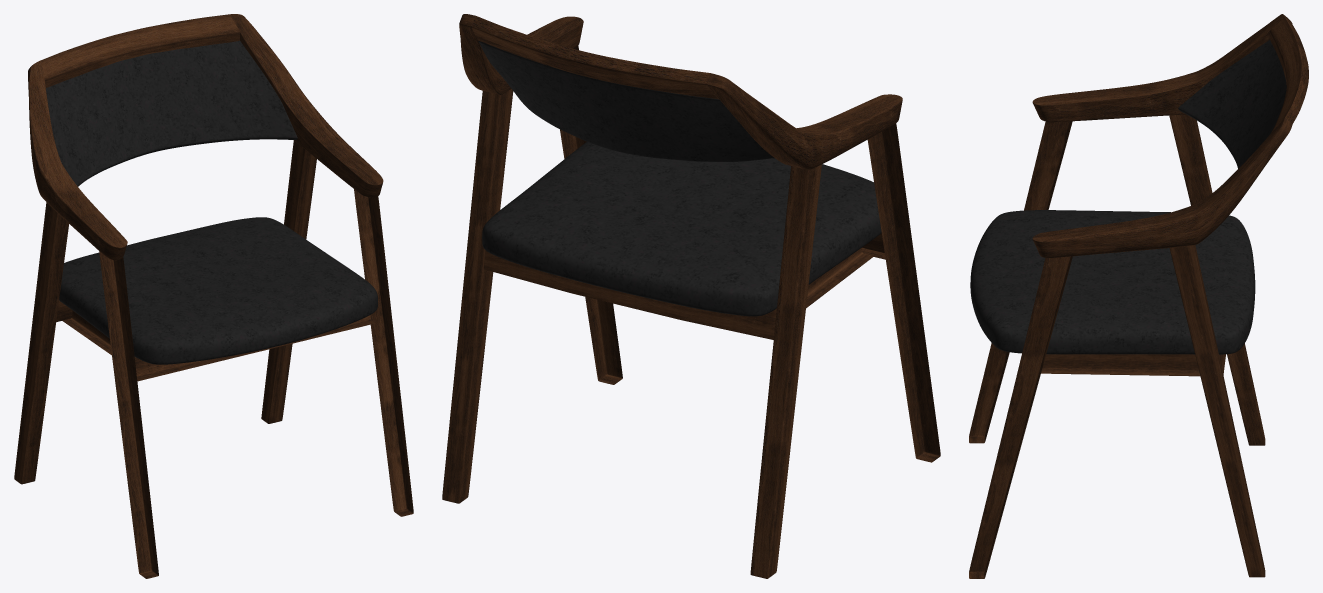
File: Quattro-Chair-Larforma.glb
3 renders of one model, left to right at view 1: azimuth 30°, elevation 25°; view 2: azimuth 150°, elevation 25°; view 3: azimuth 270°, elevation 25°, orthographic. The views are drawn at different scales.
Parts seen in each view (by area): view 1: Quattro; view 2: Quattro; view 3: Quattro.
Boxes of the visible parts, x1,y1,x2,y2 form: Quattro: (14,14,413,578); Quattro: (442,14,940,578); Quattro: (969,14,1308,578).
Bounding box in the file's own units: 0.5945 × 0.8248 × 0.5766.
Materials: 2 (2 with a texture image).
